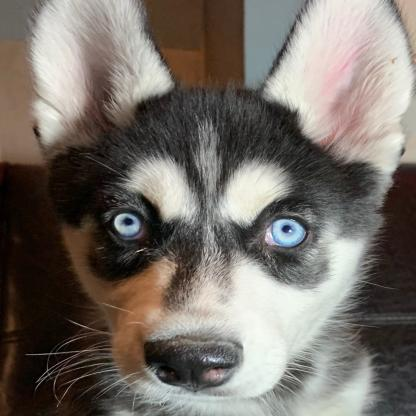dog: (23, 0, 416, 415)
